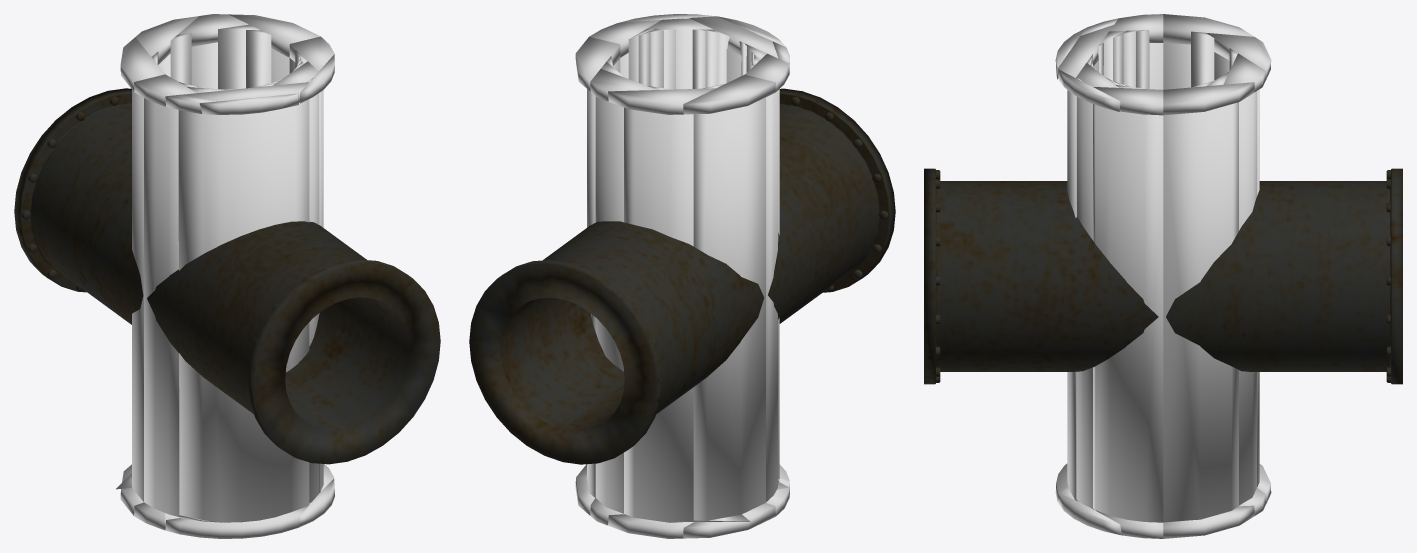
File: SM_Pipes_Medium_Half.fbx
3 views of the same model, side by side, from view 1: azimuth 30°, elevation 25°; view 2: azimuth 150°, elevation 25°; view 3: azimuth 270°, elevation 25° (orthographic).
Visible parts, largest first — view 1: SM_Pipes_Medium_Half_ConvexHulls, SM_Pipes_Medium_Half; view 2: SM_Pipes_Medium_Half_ConvexHulls, SM_Pipes_Medium_Half; view 3: SM_Pipes_Medium_Half_ConvexHulls, SM_Pipes_Medium_Half.
Part boxes in pixels (left/top/right/bottom): SM_Pipes_Medium_Half_ConvexHulls: left=116, top=14, right=334, bottom=538; SM_Pipes_Medium_Half: left=14, top=88, right=440, bottom=464; SM_Pipes_Medium_Half_ConvexHulls: left=575, top=14, right=789, bottom=538; SM_Pipes_Medium_Half: left=469, top=88, right=895, bottom=464; SM_Pipes_Medium_Half_ConvexHulls: left=1055, top=14, right=1271, bottom=538; SM_Pipes_Medium_Half: left=924, top=168, right=1402, bottom=384.
Bounding box in the file's own units: 0.4502 × 1 × 1.
